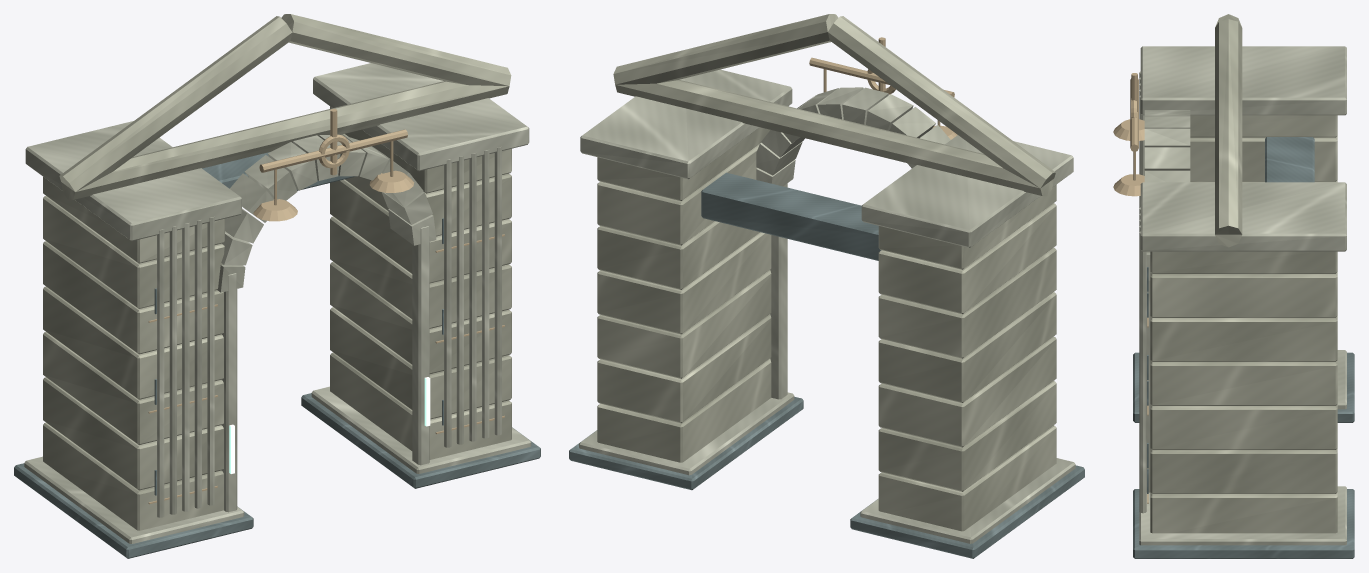
Rendered from portal-balance-v01.glb.
3 views of the same model, side by side, from view 1: azimuth 30°, elevation 25°; view 2: azimuth 150°, elevation 25°; view 3: azimuth 270°, elevation 25° (orthographic). The views are drawn at different scales.
Parts seen in each view (by area): view 1: balance_Mumu_ivory_limestone, balance_Mumu_chisel_edges, balance_Mumu_blue_slate, balance_Mumu_satin_brass, balance_Mumu_balance_light; view 2: balance_Mumu_ivory_limestone, balance_Mumu_chisel_edges, balance_Mumu_blue_slate, balance_Mumu_satin_brass; view 3: balance_Mumu_ivory_limestone, balance_Mumu_chisel_edges, balance_Mumu_blue_slate, balance_Mumu_satin_brass.
Boxes of the visible parts, x1,y1,x2,y2 form: balance_Mumu_ivory_limestone: [43, 14, 511, 530]; balance_Mumu_chisel_edges: [24, 63, 531, 543]; balance_Mumu_blue_slate: [14, 152, 540, 558]; balance_Mumu_satin_brass: [148, 108, 504, 504]; balance_Mumu_balance_light: [229, 377, 430, 473]; balance_Mumu_ivory_limestone: [597, 14, 1056, 531]; balance_Mumu_chisel_edges: [579, 69, 1075, 543]; balance_Mumu_blue_slate: [569, 172, 1084, 558]; balance_Mumu_satin_brass: [809, 37, 957, 139]; balance_Mumu_ivory_limestone: [1150, 14, 1337, 533]; balance_Mumu_chisel_edges: [1139, 46, 1346, 545]; balance_Mumu_blue_slate: [1133, 137, 1354, 558]; balance_Mumu_satin_brass: [1113, 73, 1148, 503].
Bounding box in the file's own units: 6.2 × 6.1 × 3.
Materials: 5 (3 with a texture image).
